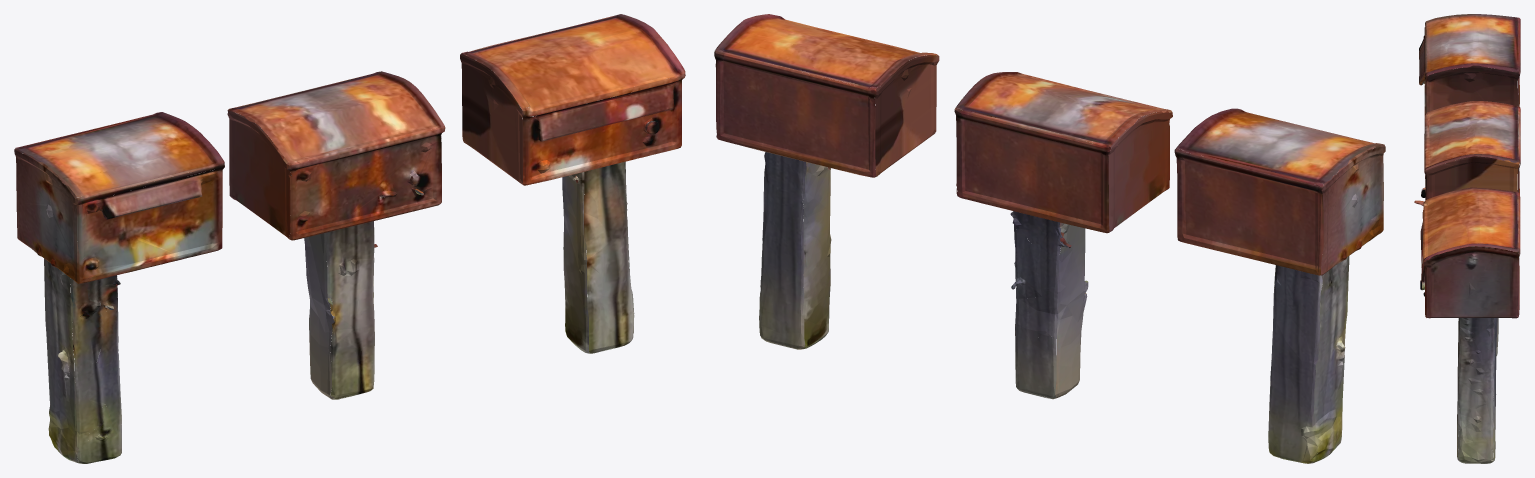
Rendered from mailbox-row.glb.
3 renders of one model, left to right at view 1: azimuth 30°, elevation 25°; view 2: azimuth 150°, elevation 25°; view 3: azimuth 270°, elevation 25°, orthographic. The views are drawn at different scales.
Parts seen in each view (by area): view 1: tmpan1fpfb8.ply; view 2: tmpan1fpfb8.ply; view 3: tmpan1fpfb8.ply.
Boxes of the visible parts, box(x1,y1,x2,y2) form: tmpan1fpfb8.ply: box(14, 14, 685, 463); tmpan1fpfb8.ply: box(714, 14, 1385, 463); tmpan1fpfb8.ply: box(1414, 14, 1520, 463).
Size of the model in its own units: 3 by 1.5 by 0.5999.
Materials: 1 (1 with a texture image).
